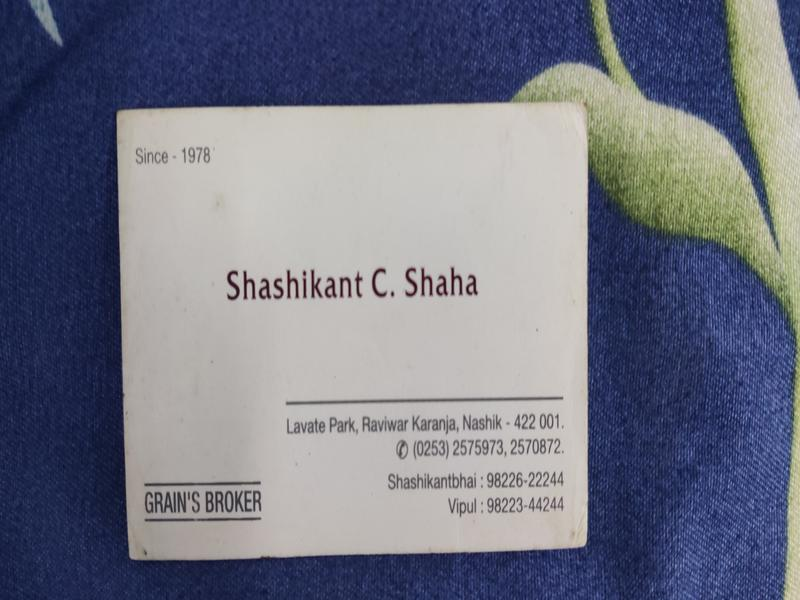card: (102, 99, 599, 565)
